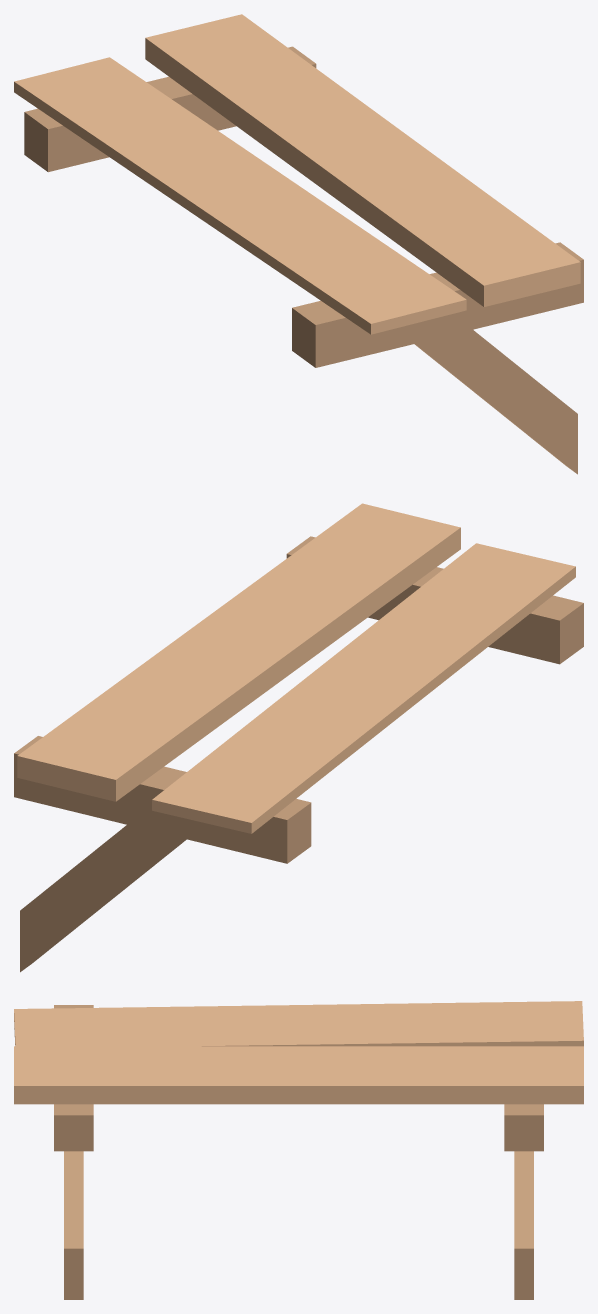
The model's file is tile_bridge_half.fbx.
3 renders of one model, top to bottom at view 1: azimuth 30°, elevation 25°; view 2: azimuth 150°, elevation 25°; view 3: azimuth 270°, elevation 25°, orthographic. The views are drawn at different scales.
Parts seen in each view (by area): view 1: bridgeHalf; view 2: bridgeHalf; view 3: bridgeHalf.
Boxes of the visible parts, x1,y1,x2,y2 form: bridgeHalf: [14, 14, 583, 474]; bridgeHalf: [14, 503, 583, 972]; bridgeHalf: [14, 1001, 583, 1299].
Bounding box in the file's own units: 45.75 × 39.25 × 100.
